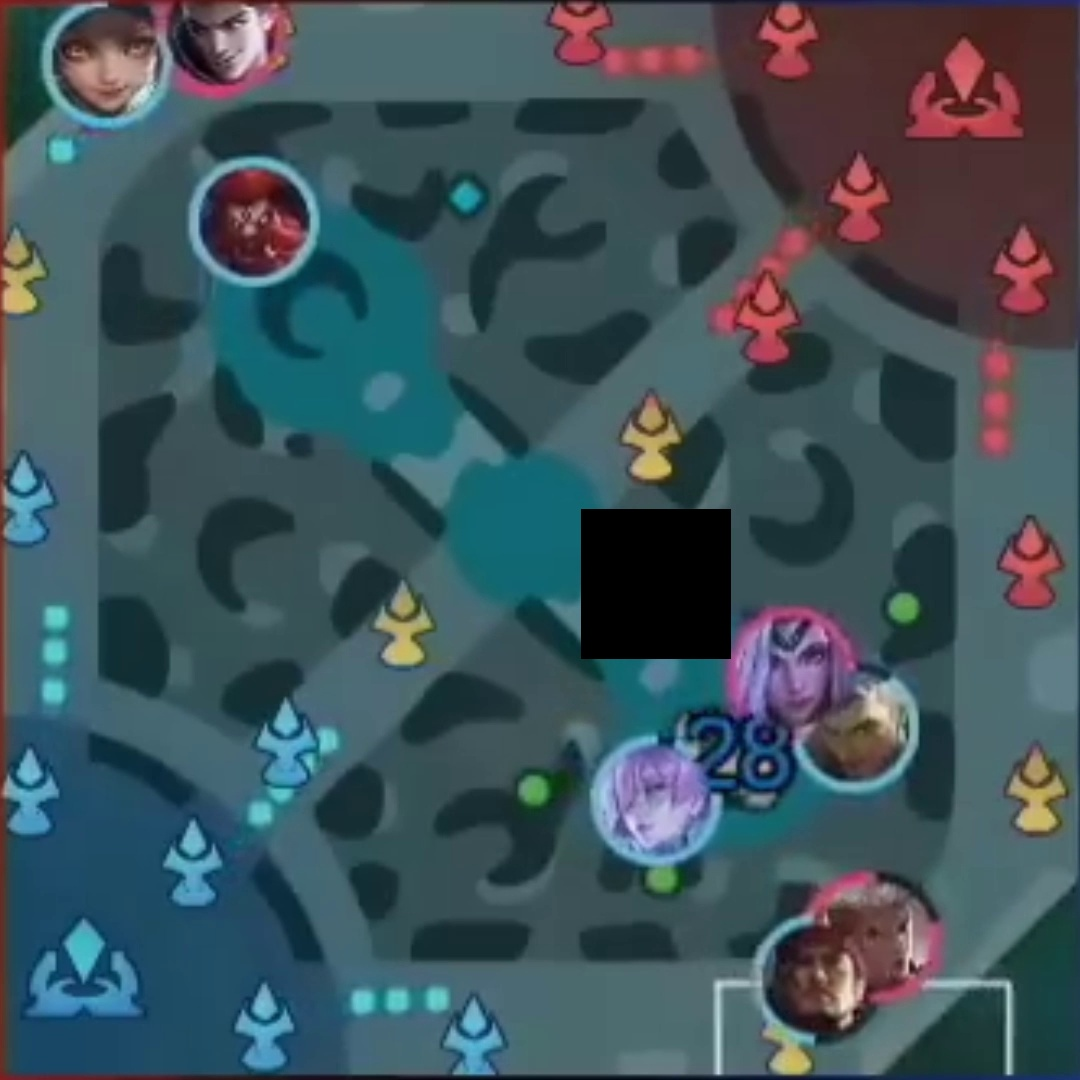Chou: (843, 885, 916, 991)
Claude: (183, 7, 265, 78)
Fredrinn: (818, 680, 896, 773)
Lapu-Lapu: (777, 932, 858, 1030)
Minotaur: (209, 175, 294, 267)
Novaria: (608, 757, 700, 847)
Valentina: (748, 621, 825, 722)
Wanwan: (63, 22, 150, 114)
